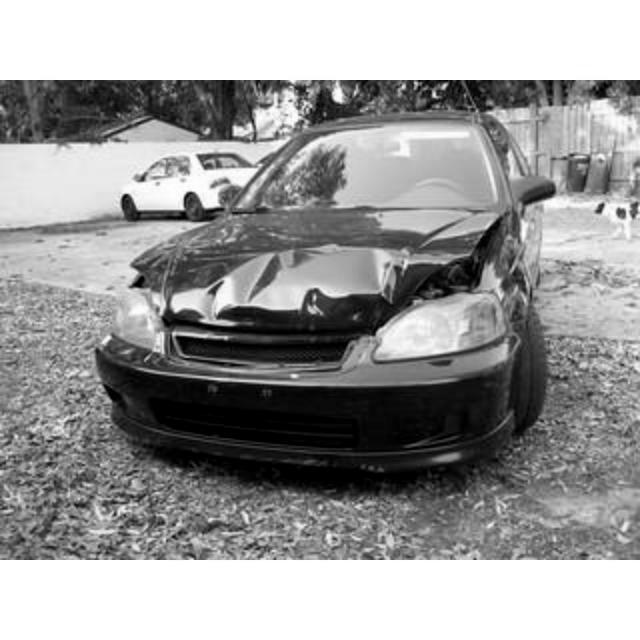bonnet-dent: (136, 224, 446, 320)
